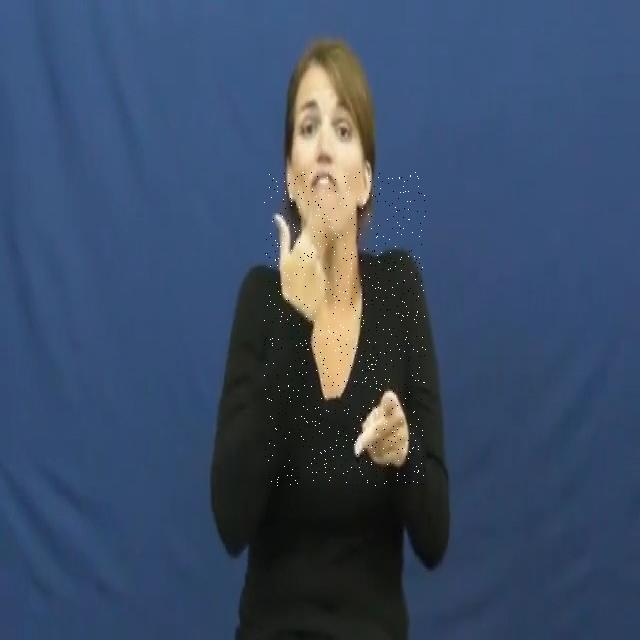lactose: (264, 172, 426, 486)
